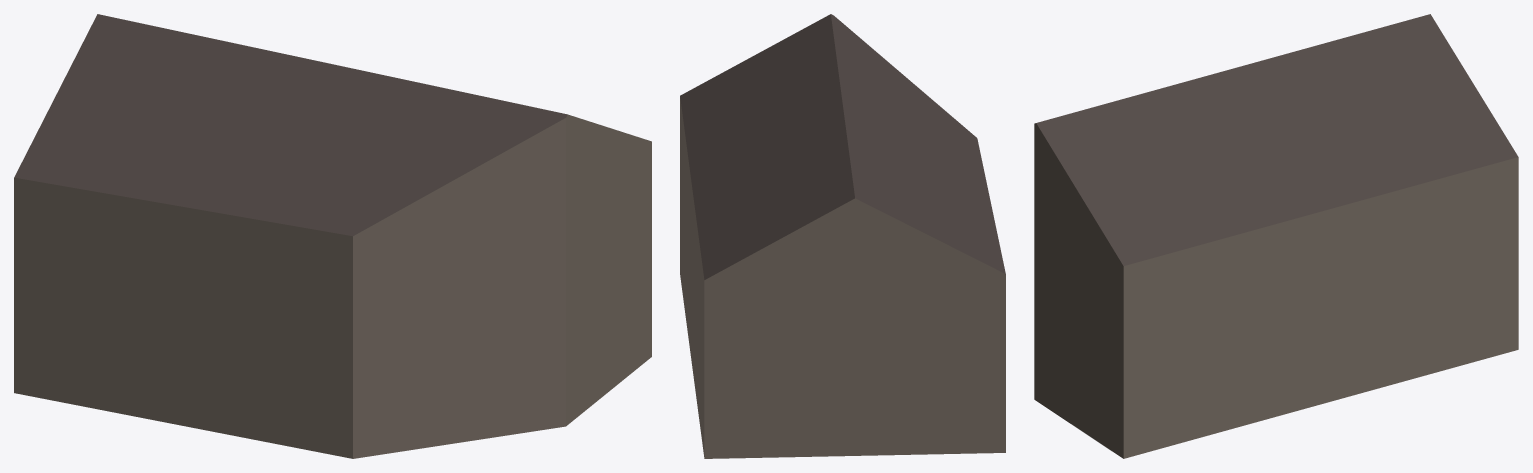
3 renders of one model, left to right at view 1: azimuth 30°, elevation 25°; view 2: azimuth 150°, elevation 25°; view 3: azimuth 270°, elevation 25°, orthographic. The views are drawn at different scales.
Visible parts, largest first — view 1: HP-w369237994; view 2: HP-w369237994; view 3: HP-w369237994.
Boxes of the visible parts, bbox=[...] form: HP-w369237994: bbox=[14, 14, 651, 458]; HP-w369237994: bbox=[680, 14, 1005, 458]; HP-w369237994: bbox=[1034, 14, 1518, 458].
Size of the model in its own units: 15.02 by 8.65 by 13.66.
